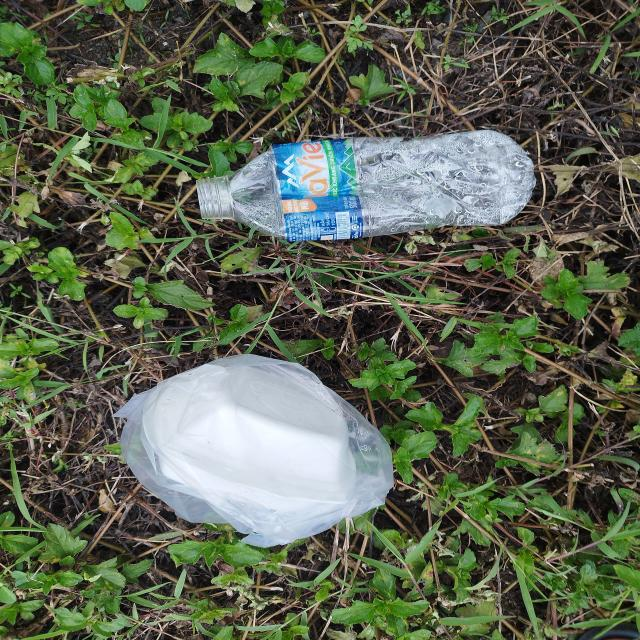bottle: (197, 131, 541, 244)
trash bag: (118, 355, 392, 545)
